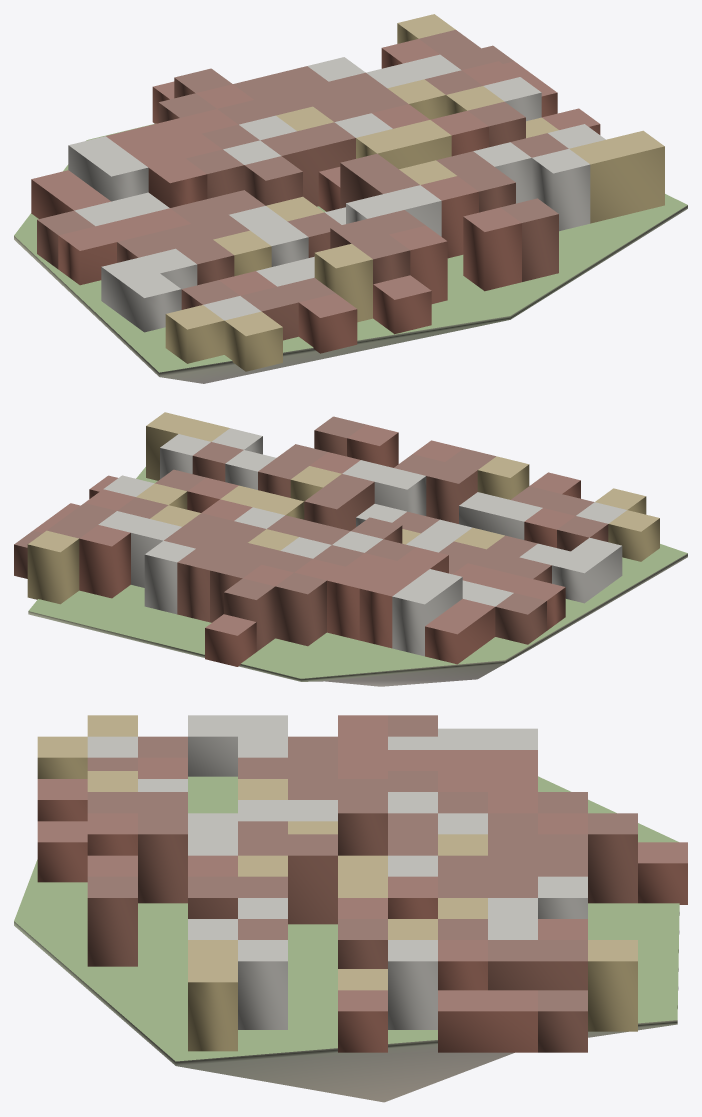
The model's file is SKY-004.lod2.glb.
The picture shows the model from 3 angles, top to bottom: view 1: azimuth 30°, elevation 25°; view 2: azimuth 150°, elevation 25°; view 3: azimuth 270°, elevation 25°; orthographic projection. The views are drawn at different scales.
Visible parts, largest first — view 1: warren_hull, deck, rock; view 2: warren_hull, deck, rock; view 3: warren_hull, deck, rock.
Part boxes in pixels (left/top/right/bottom): warren_hull: left=31, top=14, right=664, bottom=371; deck: left=14, top=123, right=687, bottom=372; rock: left=14, top=205, right=687, bottom=383; warren_hull: left=14, top=412, right=659, bottom=666; deck: left=28, top=467, right=687, bottom=678; rock: left=28, top=553, right=687, bottom=686; warren_hull: left=37, top=715, right=687, bottom=1052; deck: left=14, top=776, right=679, bottom=1061; rock: left=14, top=912, right=679, bottom=1102.
Bounding box in the file's own units: 229 × 65.63 × 202.
